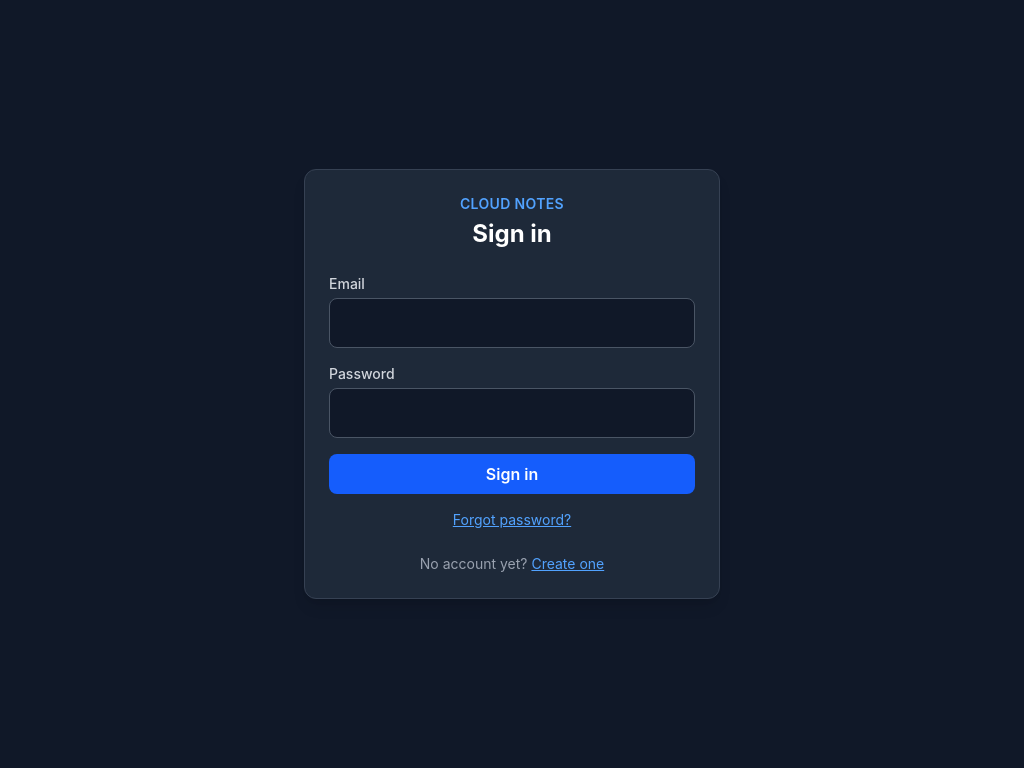
Test: LoginPage with Identity Platform › signs in with the SDK and exchanges the ID token for a session
Type "ann@example.com" into the field labelled "Email" at (512, 323), box [329, 298, 695, 348]
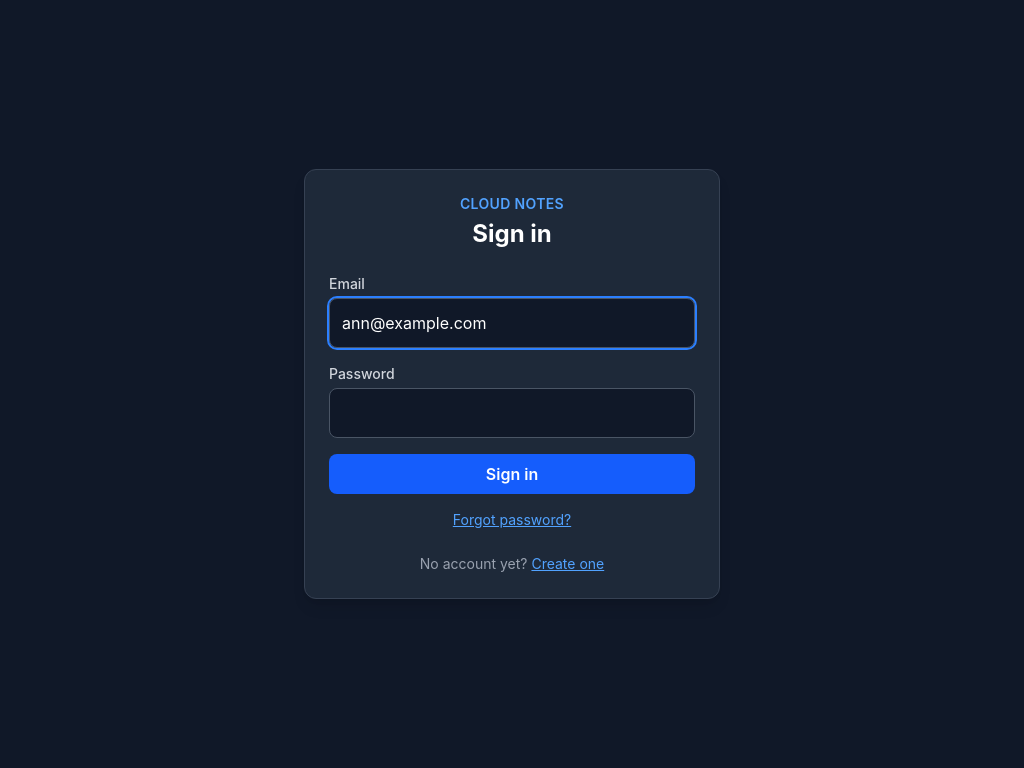
Type "correct horse battery" into the password field labelled "Password" at (512, 413), box [329, 388, 695, 438]
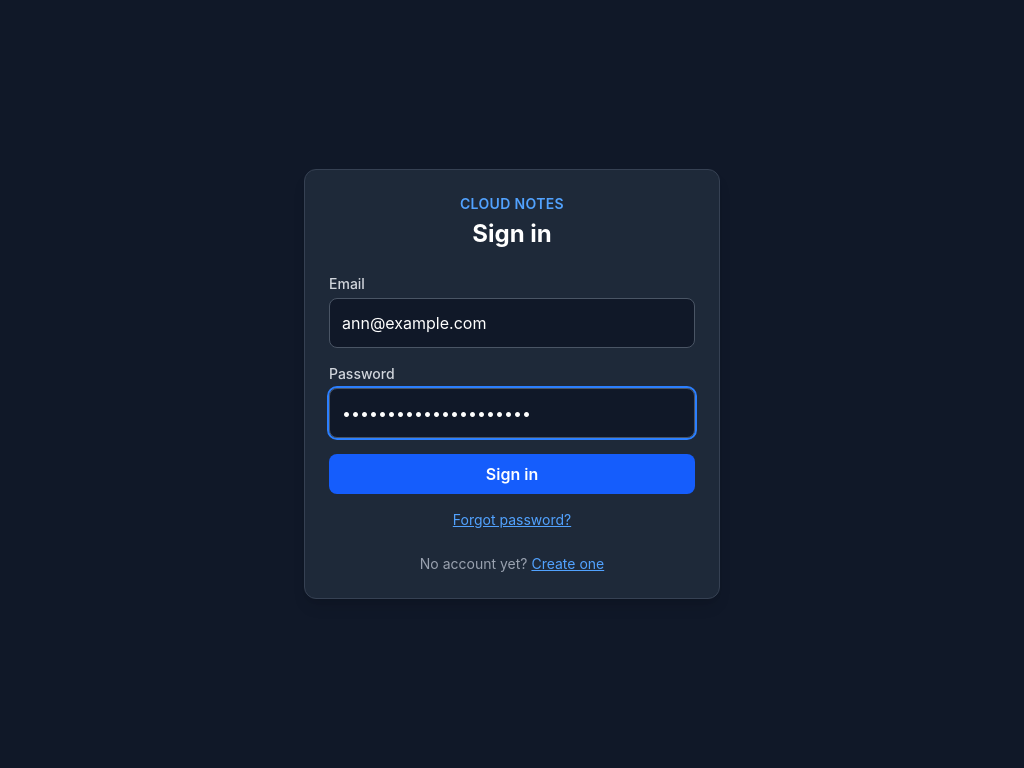
Click the button "Sign in" at (512, 474), box [329, 454, 695, 494]
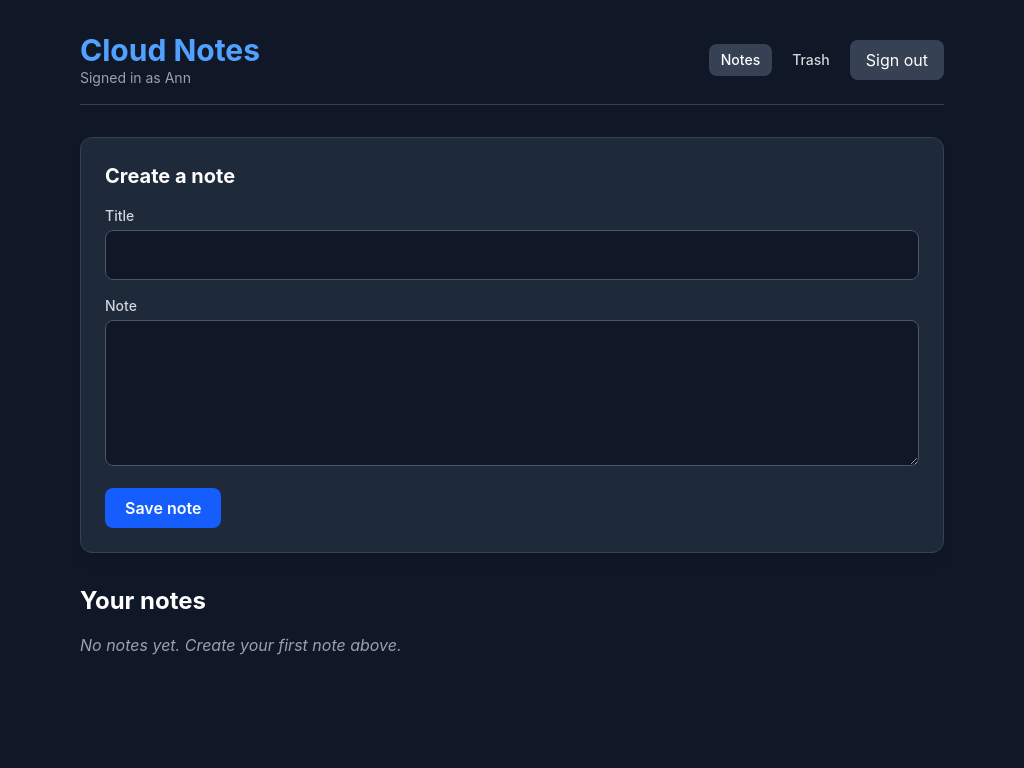
Expected: the text "Signed in as Ann" is shown, [80, 69, 191, 86]
